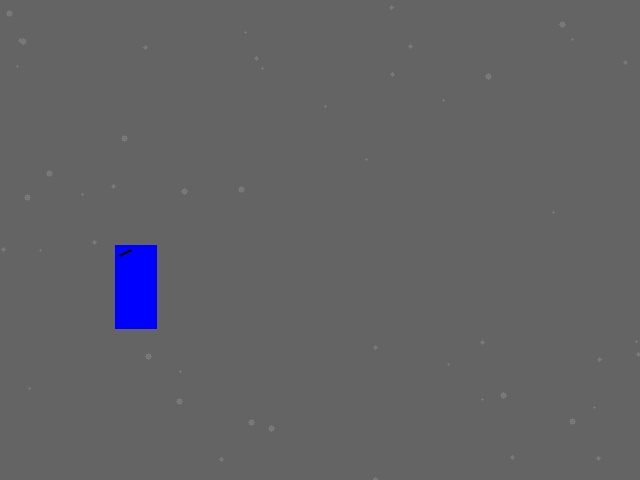motorcycle: (115, 245, 156, 328)
